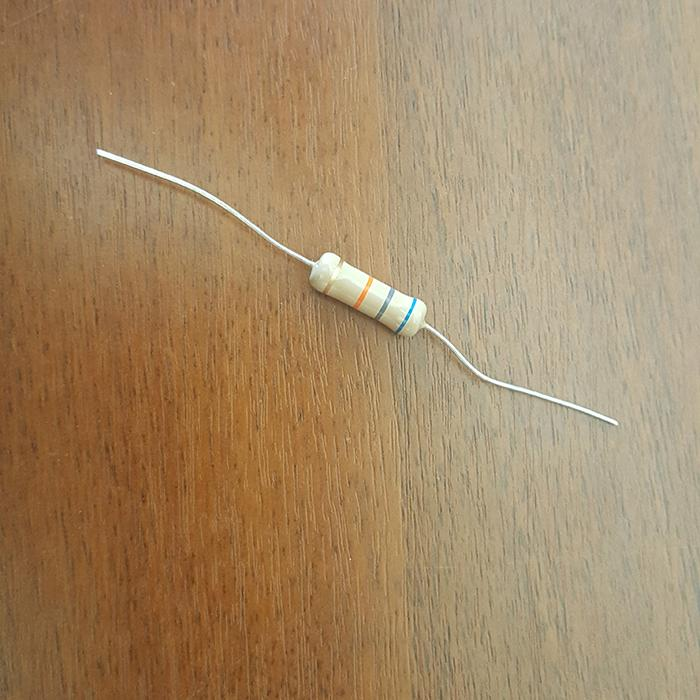resistor: (308, 252, 425, 336)
